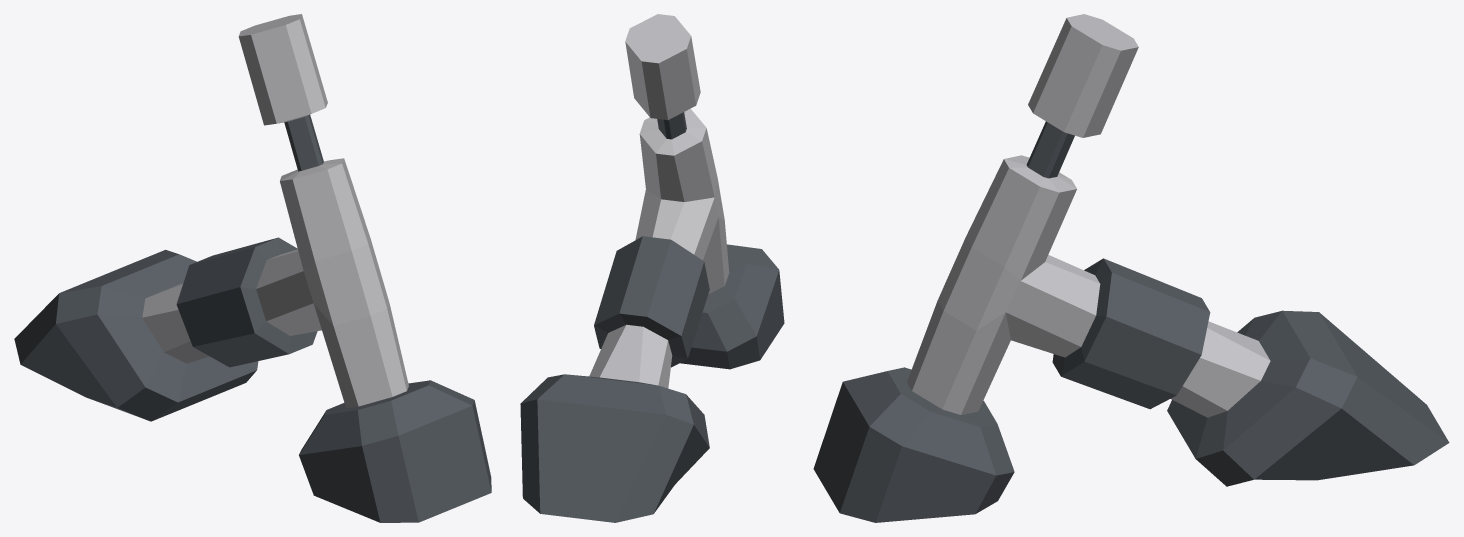
The model's file is Dropship_04_Lander_Rear_Right.fbx.
3 renders of one model, left to right at view 1: azimuth 30°, elevation 25°; view 2: azimuth 150°, elevation 25°; view 3: azimuth 270°, elevation 25°, orthographic. The views are drawn at different scales.
Parts seen in each view (by area): view 1: Dropship_04_Lander_Rear_Right; view 2: Dropship_04_Lander_Rear_Right; view 3: Dropship_04_Lander_Rear_Right.
Boxes of the visible parts, box(x1,y1,x2,y2) form: Dropship_04_Lander_Rear_Right: box(14, 14, 491, 522); Dropship_04_Lander_Rear_Right: box(520, 14, 784, 522); Dropship_04_Lander_Rear_Right: box(813, 14, 1449, 522).
Size of the model in its own units: 136 by 227 by 289.
Materials: 1 (1 with a texture image).
